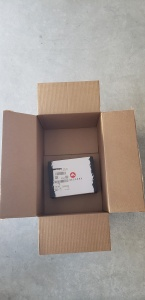innerbox: (36, 115, 109, 213)
outerbox: (5, 83, 145, 255)
product: (48, 157, 98, 197)
